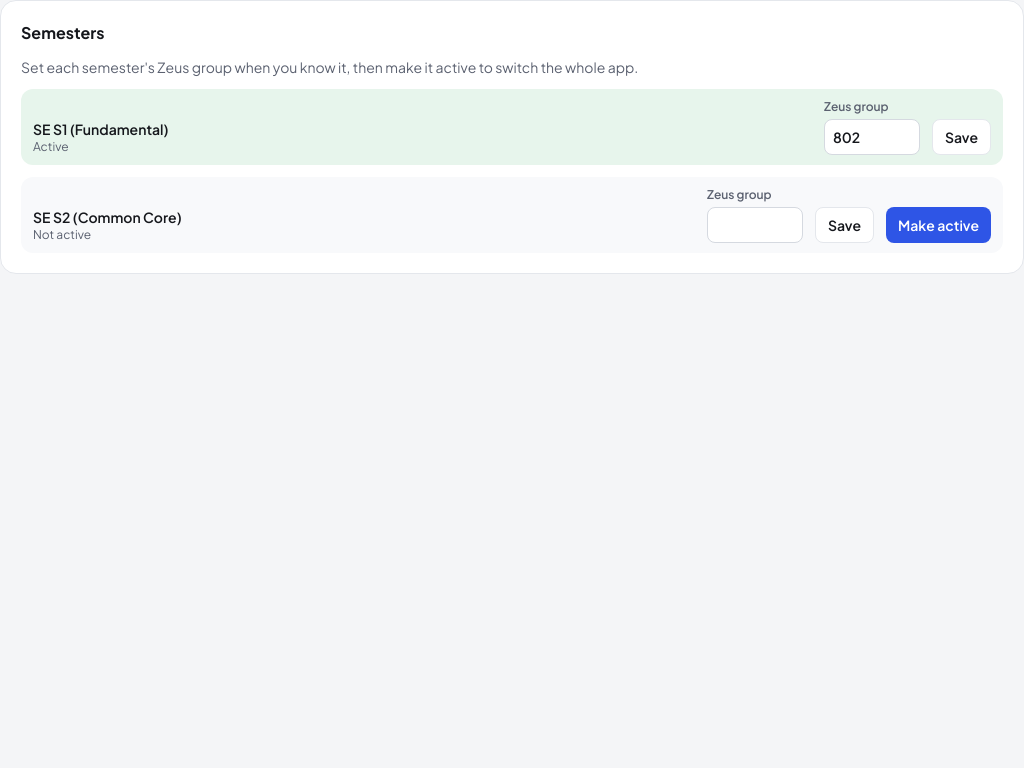
Scenario: SemesterSettings › toasts after saving and activating
Type "905" into the field named "Zeus group for SE S2 (Common Core)".
click(755, 225); type("905")  # box [707,207,803,243]
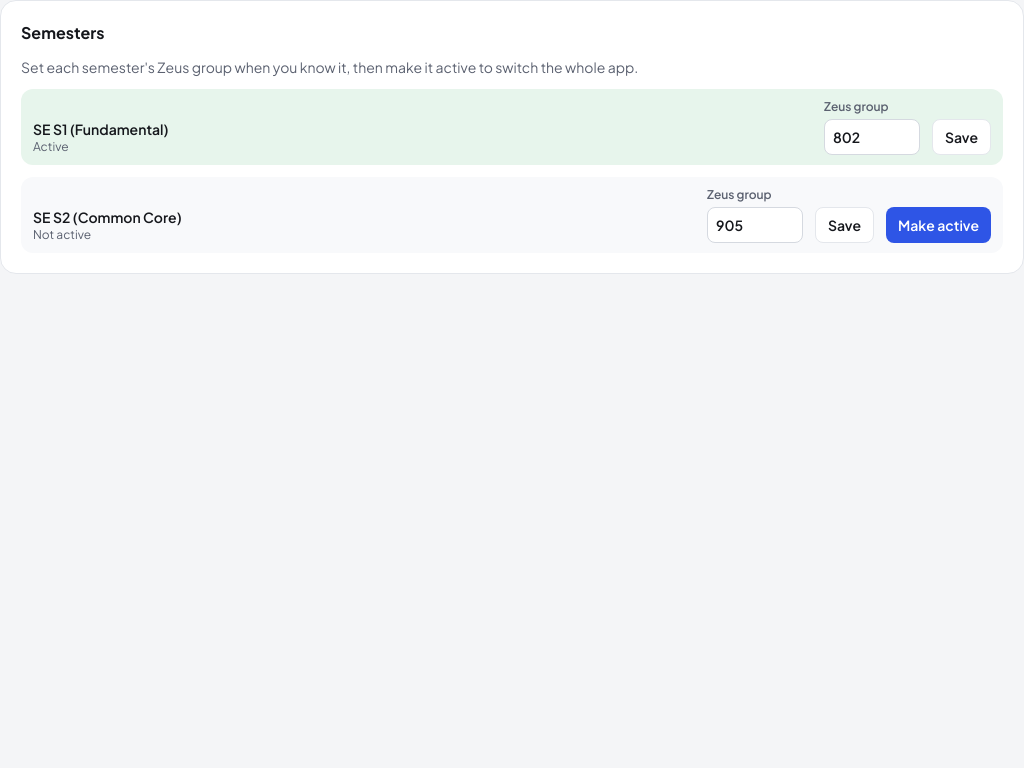
Click the button with aria-label "Save SE S2 (Common Core)".
click(844, 225)  # box [815,207,874,243]
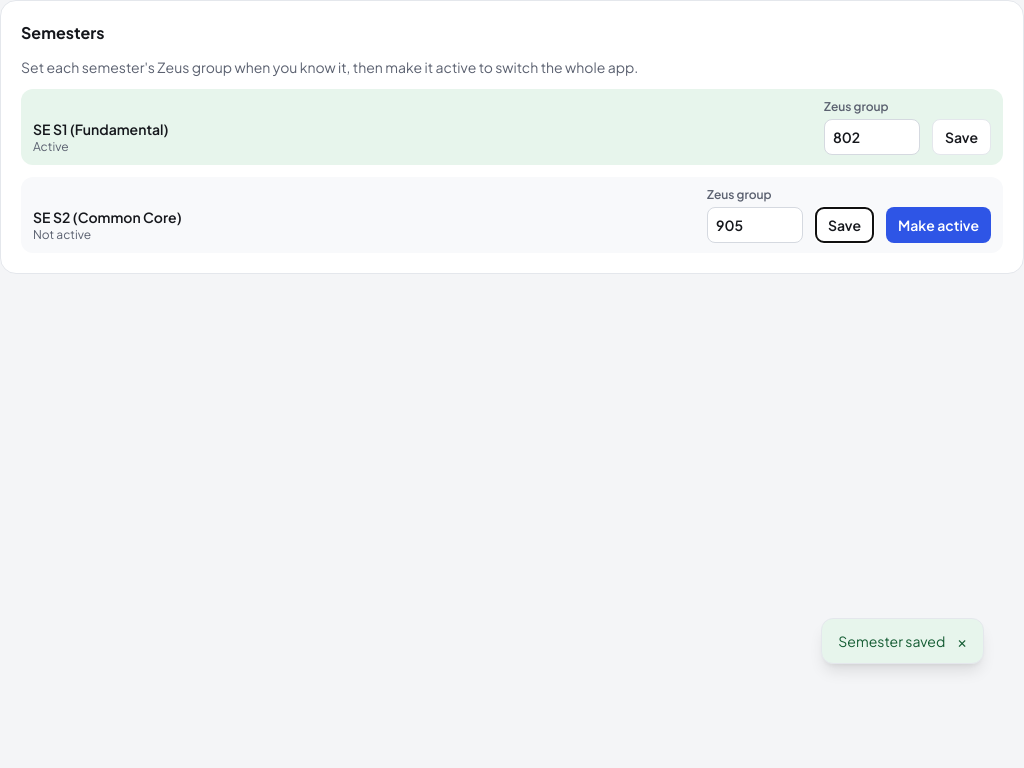
Now the text "Semester saved" is shown, box [838,631,945,651]
Click the button with aria-label "Make SE S2 (Common Core) active".
click(938, 225)  # box [886,207,991,243]
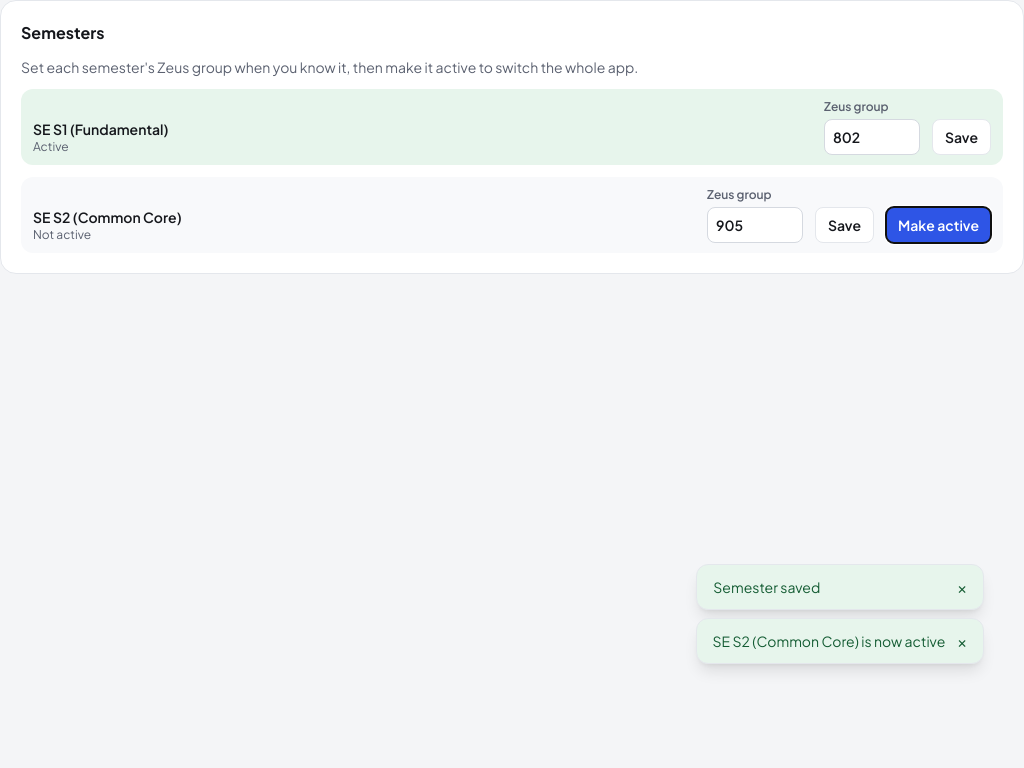
Now the text "SE S2 (Common Core) is now active" is shown, box [712,631,945,651]
